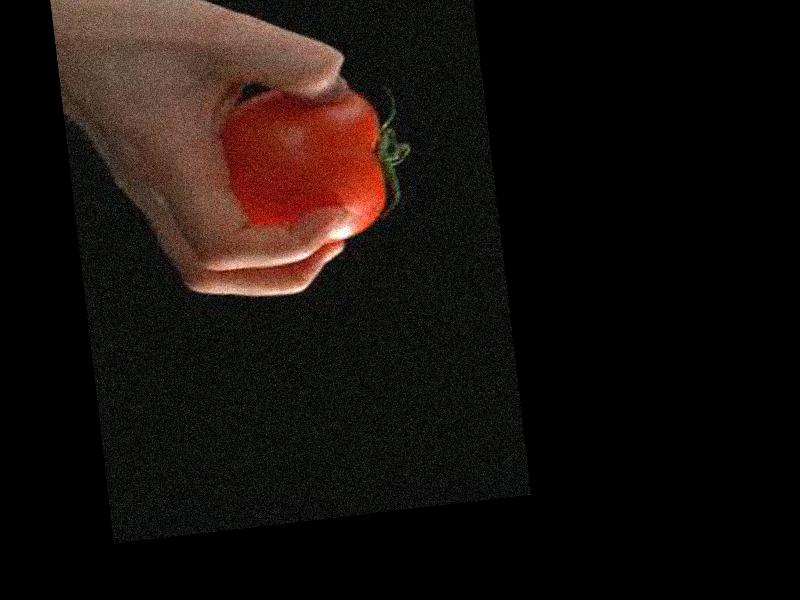Tomato: (222, 76, 416, 251)
